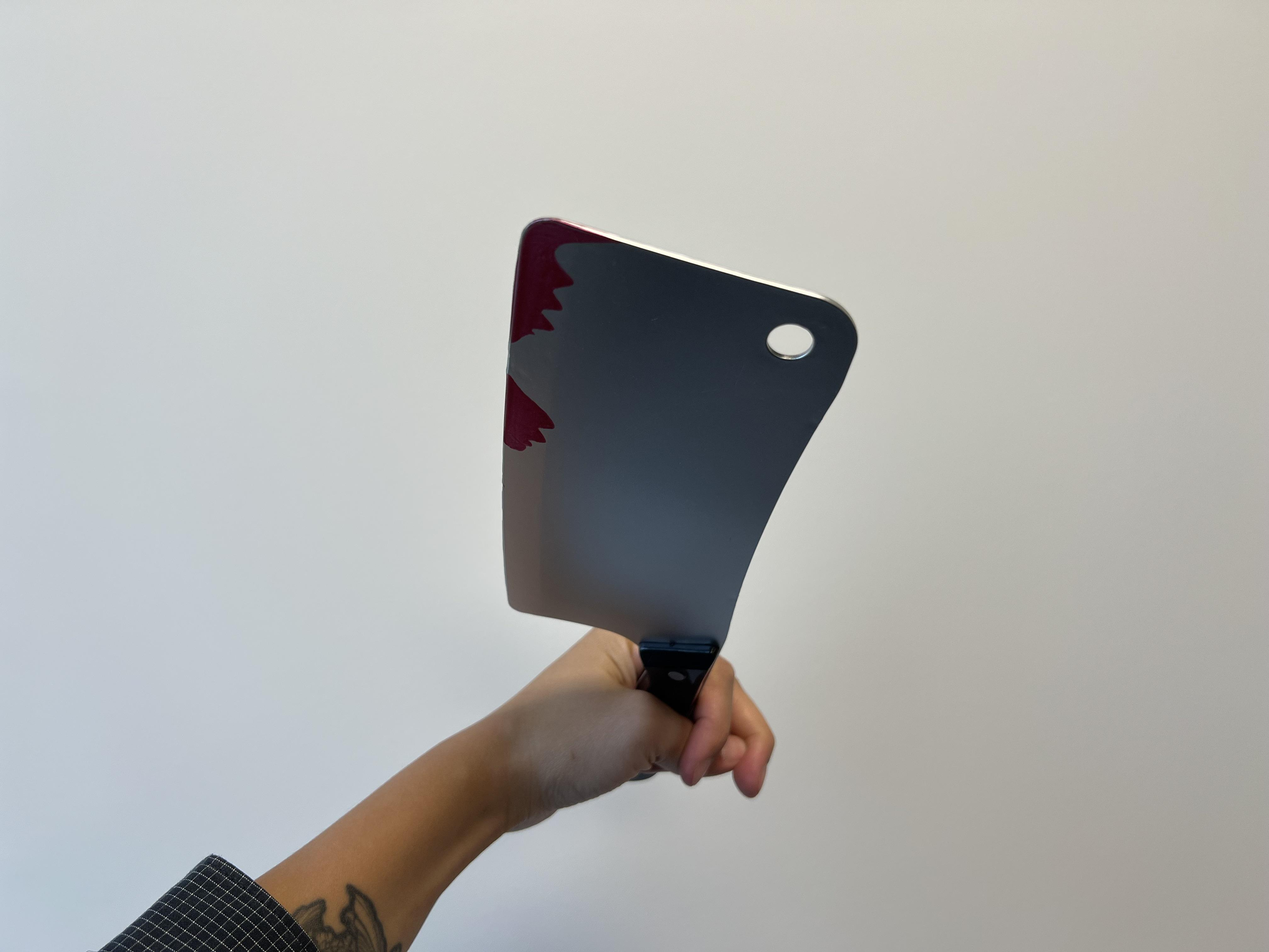Knife: (106, 631, 775, 952), (499, 217, 856, 641), (498, 630, 779, 806)
